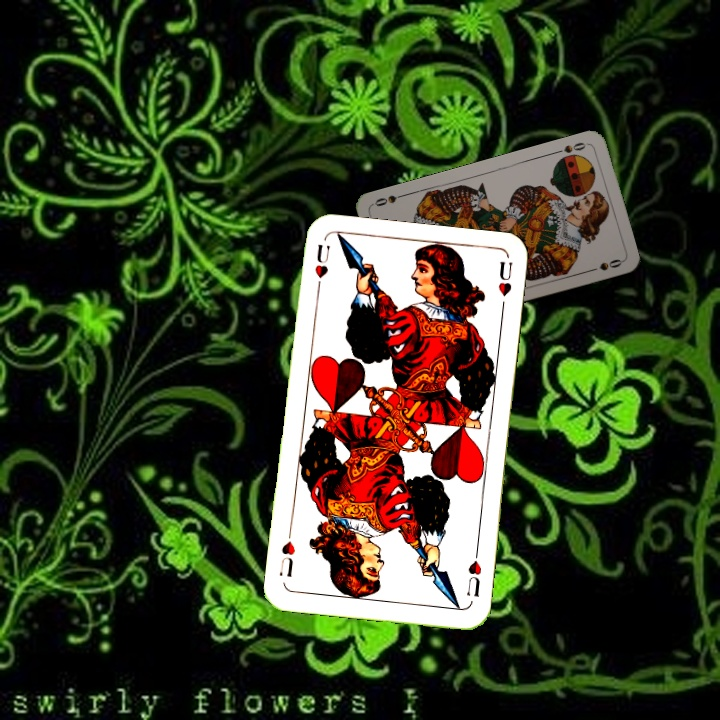HU: (311, 240, 333, 297), (462, 546, 484, 599)
SO: (551, 138, 591, 156)
